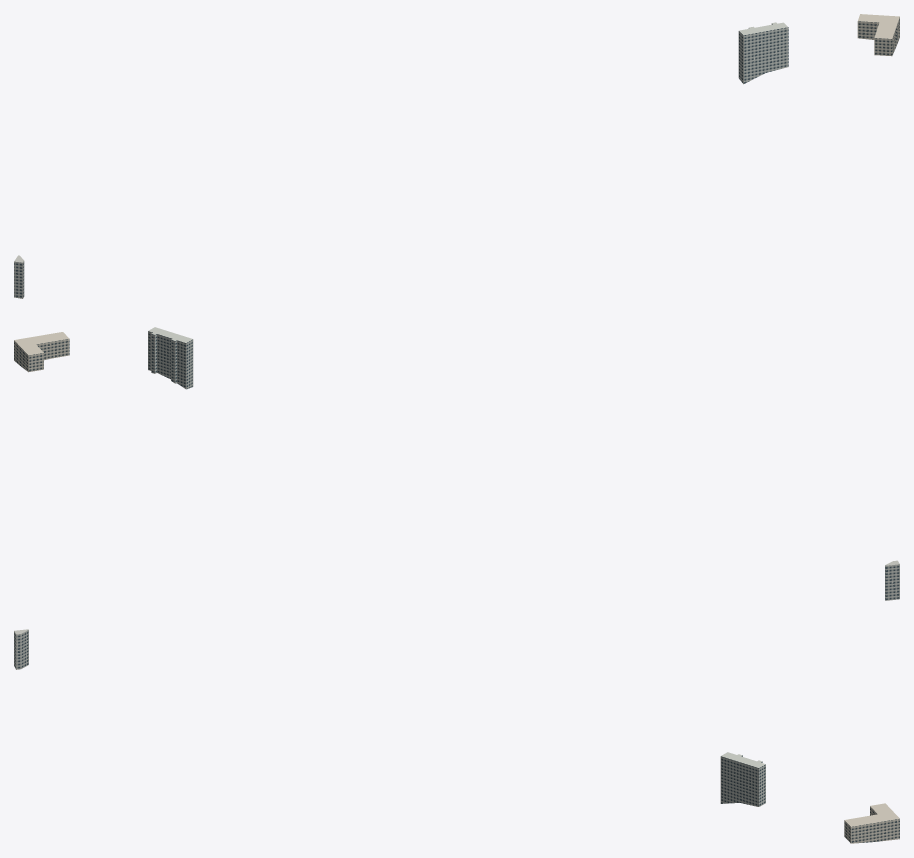
The model's file is city_0_-6.glb.
The picture shows the model from 3 angles, top to bottom: view 1: azimuth 30°, elevation 25°; view 2: azimuth 150°, elevation 25°; view 3: azimuth 330°, elevation 25°; orthographic projection. The views are drawn at different scales.
Bounding box in the file's own units: 941 × 87.6 × 61.15.
Materials: 3 (3 with a texture image).
